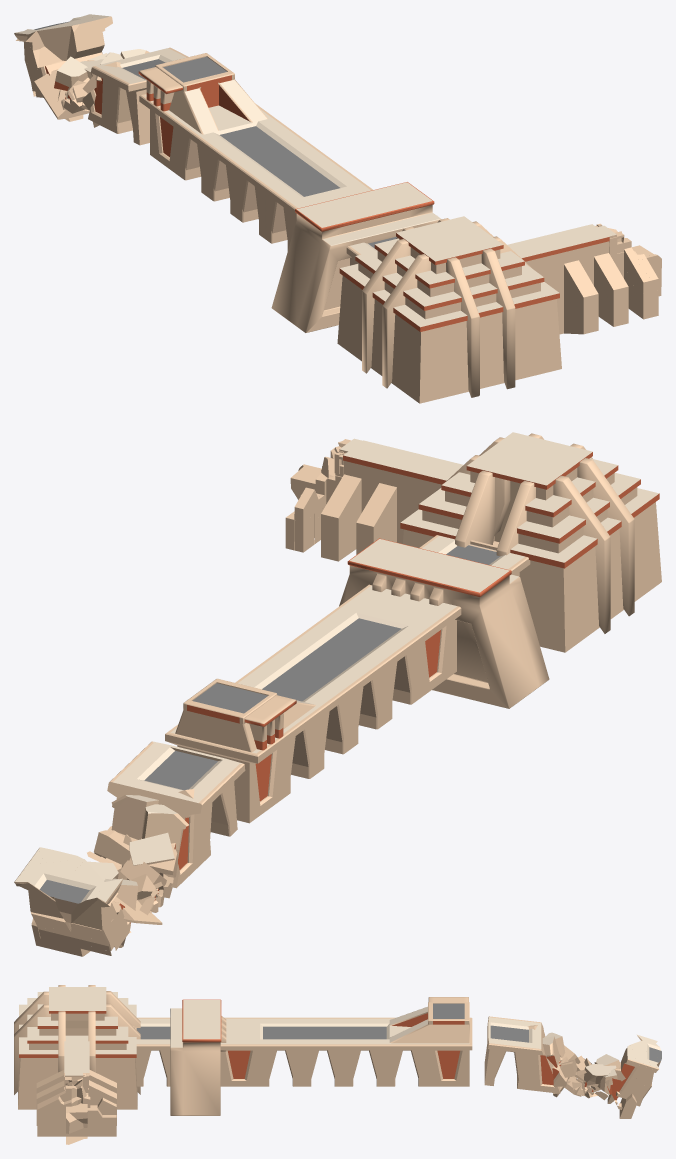
3 views of the same model, one above another, from view 1: azimuth 30°, elevation 25°; view 2: azimuth 150°, elevation 25°; view 3: azimuth 270°, elevation 25° (orthographic). The views are drawn at different scales.
Parts seen in each view (by area): view 1: LS_B1, LS_B4, LS_B5, LS_B6, LS_B3, LS_B2; view 2: LS_B4, LS_B1, LS_B6, LS_B5, LS_B3, LS_B2; view 3: LS_B4, LS_B1, LS_B6, LS_B5, LS_B2, LS_B3.
Boxes of the visible parts, x1,y1,x2,y2 form: LS_B1: (337, 216, 628, 403); LS_B4: (138, 53, 396, 265); LS_B5: (271, 182, 441, 332); LS_B6: (14, 14, 188, 145); LS_B3: (362, 218, 532, 397); LS_B2: (595, 223, 661, 319); LS_B4: (165, 535, 530, 823); LS_B1: (321, 432, 661, 652); LS_B6: (14, 741, 245, 956); LS_B5: (339, 538, 549, 708); LS_B3: (434, 433, 634, 633); LS_B2: (285, 438, 362, 552); LS_B4: (133, 997, 472, 1086); LS_B1: (18, 987, 137, 1125); LS_B6: (484, 1016, 661, 1118); LS_B5: (170, 999, 226, 1115); LS_B2: (37, 1073, 116, 1144); LS_B3: (14, 985, 140, 1094).
Bounding box in the file's own units: 6419 × 3126 × 17339.
